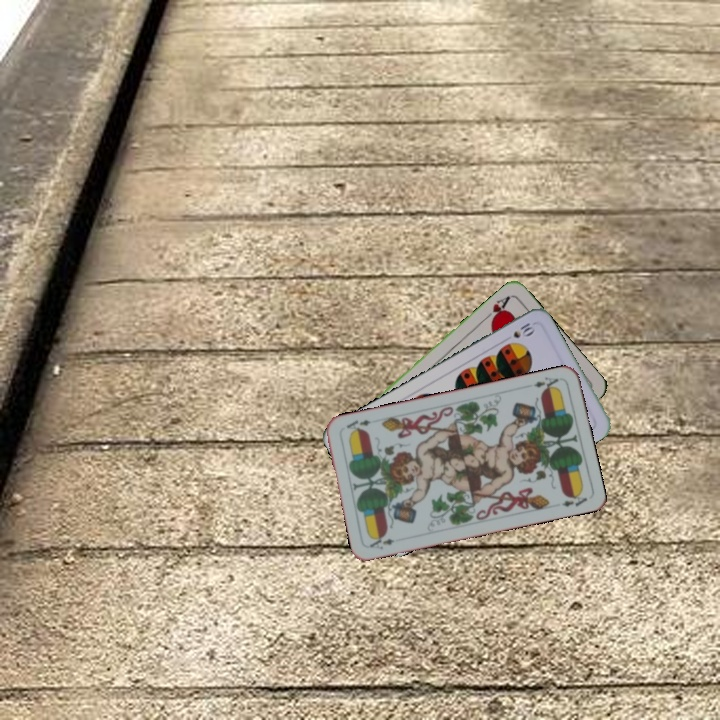EA: (530, 373, 561, 394), (365, 532, 397, 552)
HA: (480, 291, 513, 326)
S10: (509, 319, 538, 341)
